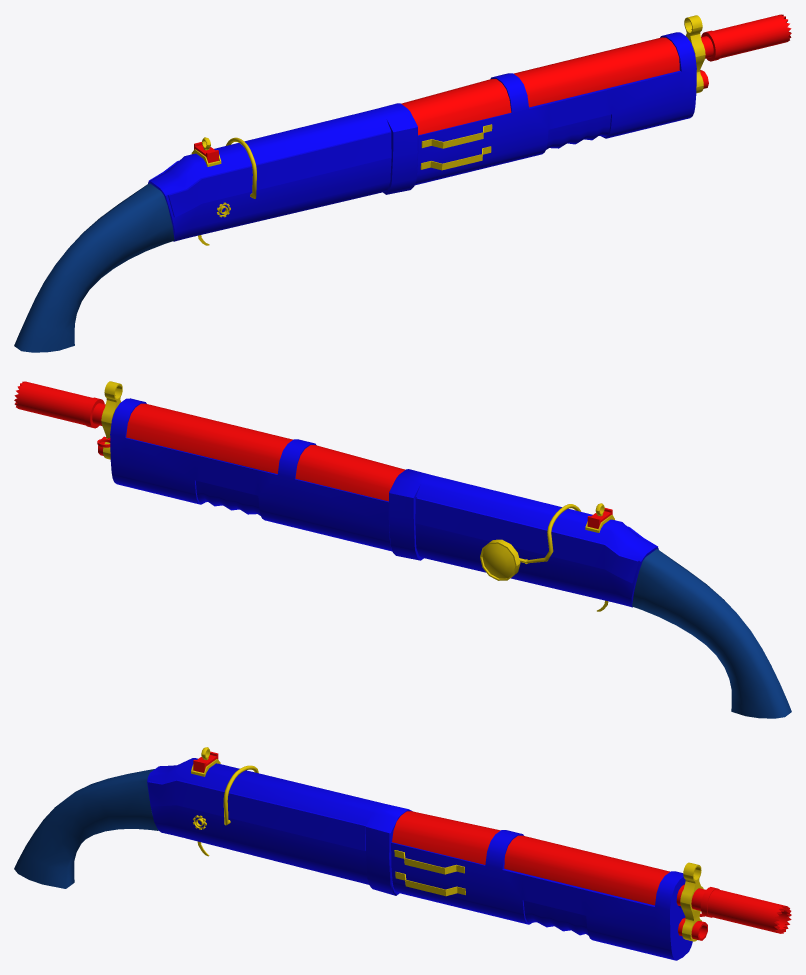
File: Gun.FBX
3 views of the same model, one above another, from view 1: azimuth 30°, elevation 25°; view 2: azimuth 150°, elevation 25°; view 3: azimuth 330°, elevation 25° (orthographic).
Parts seen in each view (by area): view 1: body, metal_02, grip, metal_01; view 2: body, metal_02, grip, metal_01; view 3: body, metal_02, grip, metal_01.
Part boxes in pixels (x1=…): body: x1=148, y1=32, x2=696, y2=241; metal_02: x1=194, y1=14, x2=791, y2=163; grip: x1=14, y1=183, x2=174, y2=352; metal_01: x1=191, y1=15, x2=705, y2=245; body: x1=110, y1=398, x2=658, y2=607; metal_02: x1=14, y1=381, x2=612, y2=528; grip: x1=632, y1=549, x2=791, y2=718; metal_01: x1=101, y1=381, x2=614, y2=611; body: x1=147, y1=758, x2=692, y2=960; metal_02: x1=193, y1=751, x2=791, y2=940; grip: x1=14, y1=769, x2=158, y2=888; metal_01: x1=191, y1=747, x2=703, y2=941.
Bounding box in the file's own units: 263 × 56.93 × 25.99.
